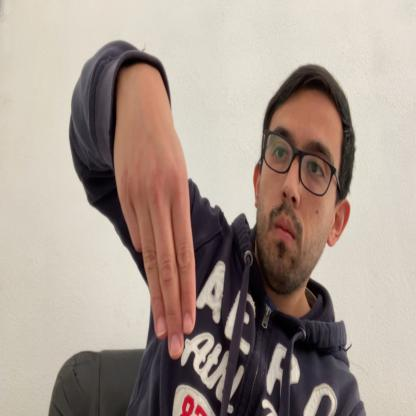M: (114, 67, 197, 361)
